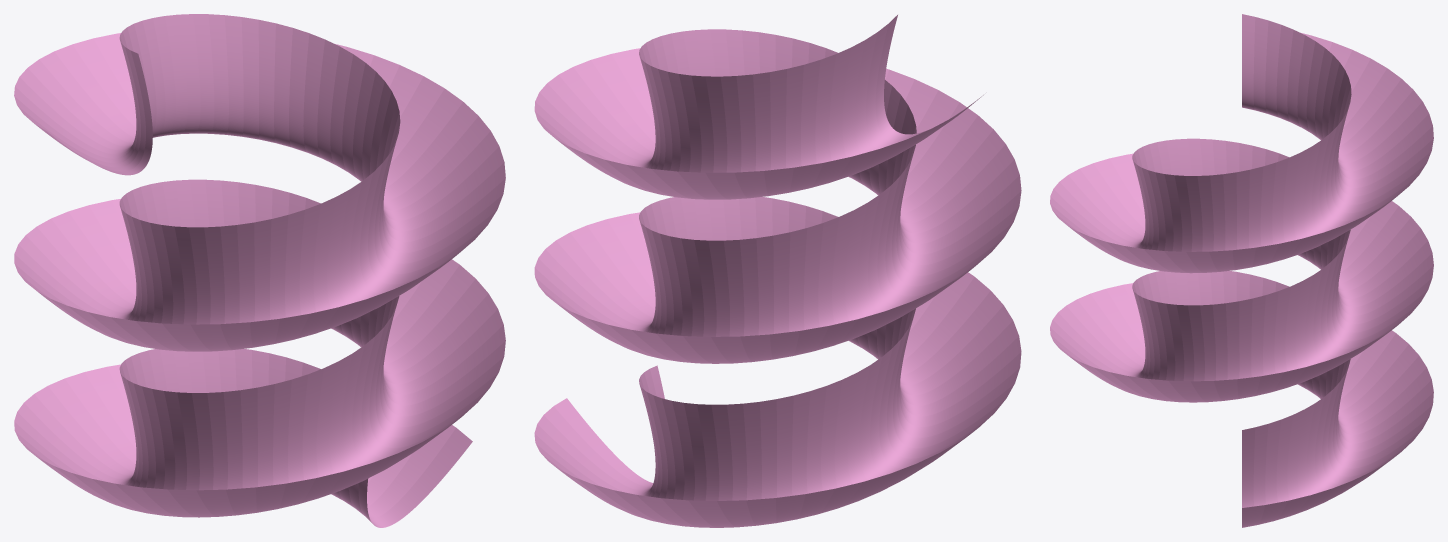
Rendered from parabola.glb.
3 views of the same model, side by side, from view 1: azimuth 30°, elevation 25°; view 2: azimuth 150°, elevation 25°; view 3: azimuth 270°, elevation 25° (orthographic). The views are drawn at different scales.
Visible parts, largest first — view 1: parabola; view 2: parabola; view 3: parabola.
Part boxes in pixels (x1,y1,x2,y2): parabola: (14,14,505,527); parabola: (534,15,1021,527); parabola: (1050,14,1433,527).
Bounding box in the file's own units: 3.49 × 4.18 × 3.49.
